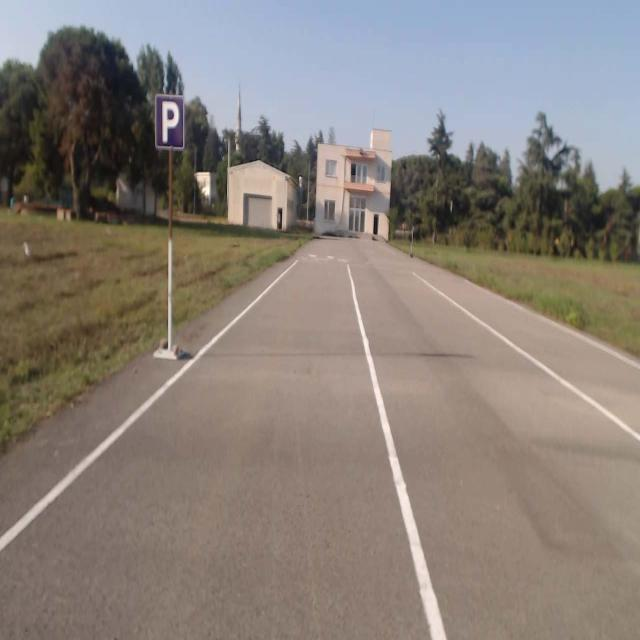park: (154, 94, 184, 150)
